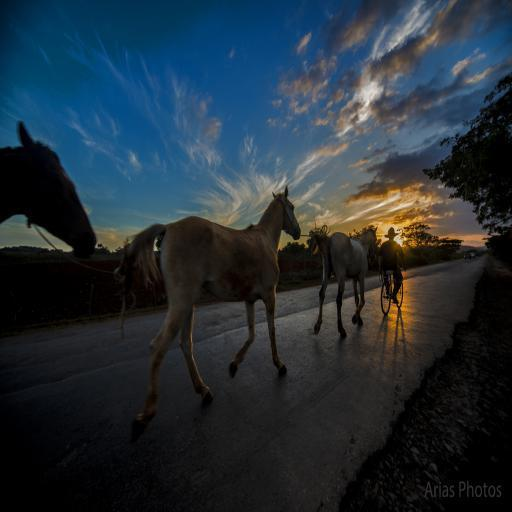horse: (113, 184, 301, 428), (0, 120, 98, 259), (312, 227, 377, 336)
